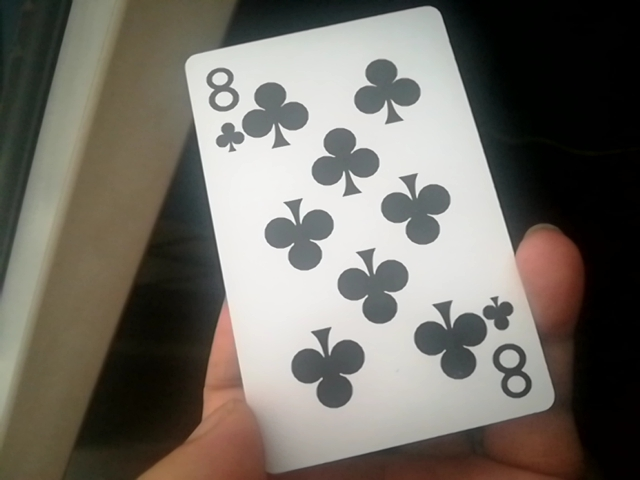mh 8: (188, 12, 568, 479)
